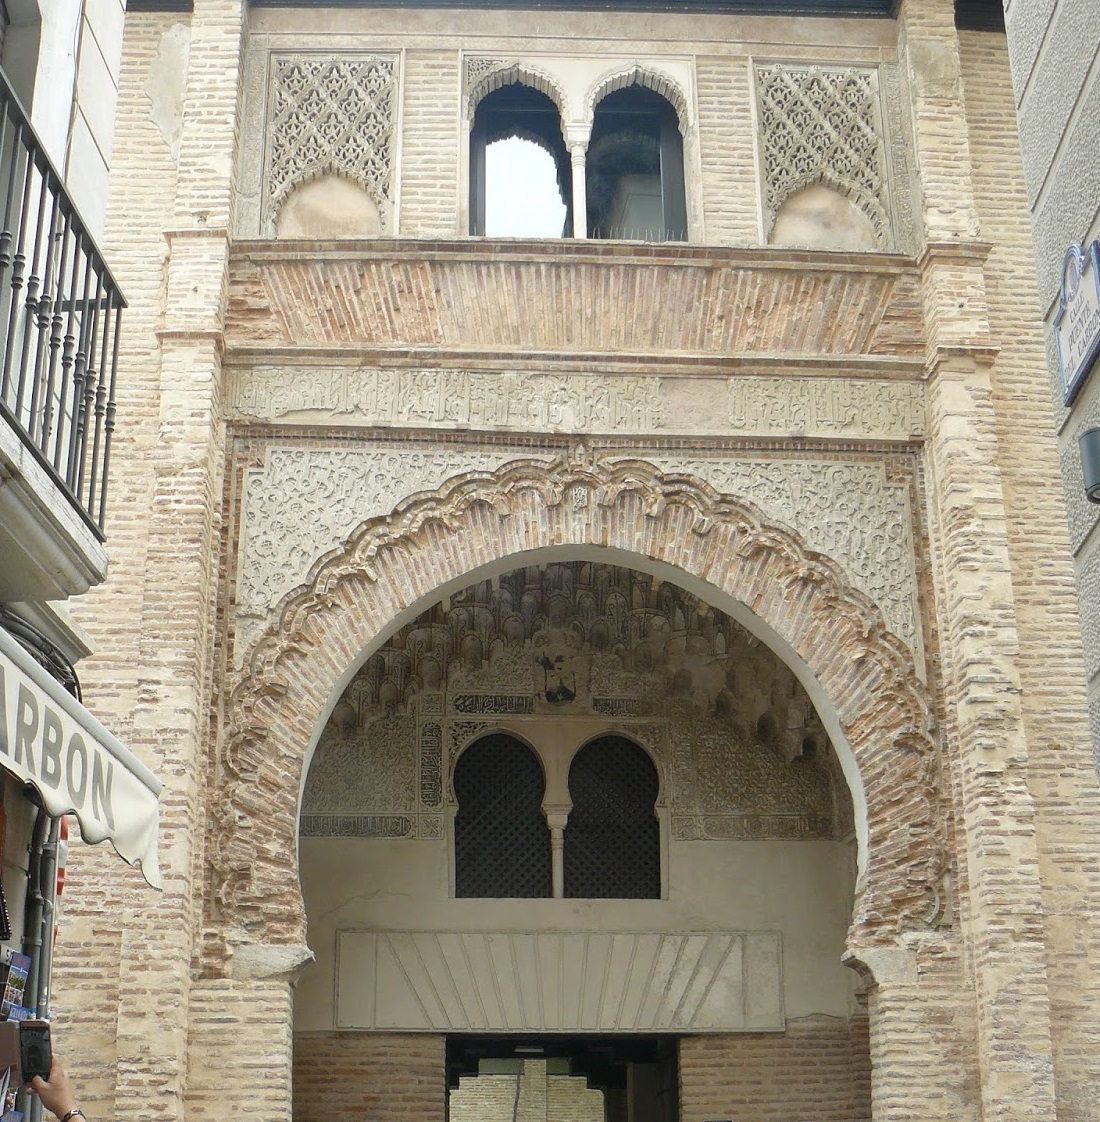arco-herradura: (253, 520, 905, 1023), (443, 720, 557, 827), (558, 720, 669, 827)
dintel-adovelado: (253, 251, 907, 361), (379, 929, 741, 1033)
